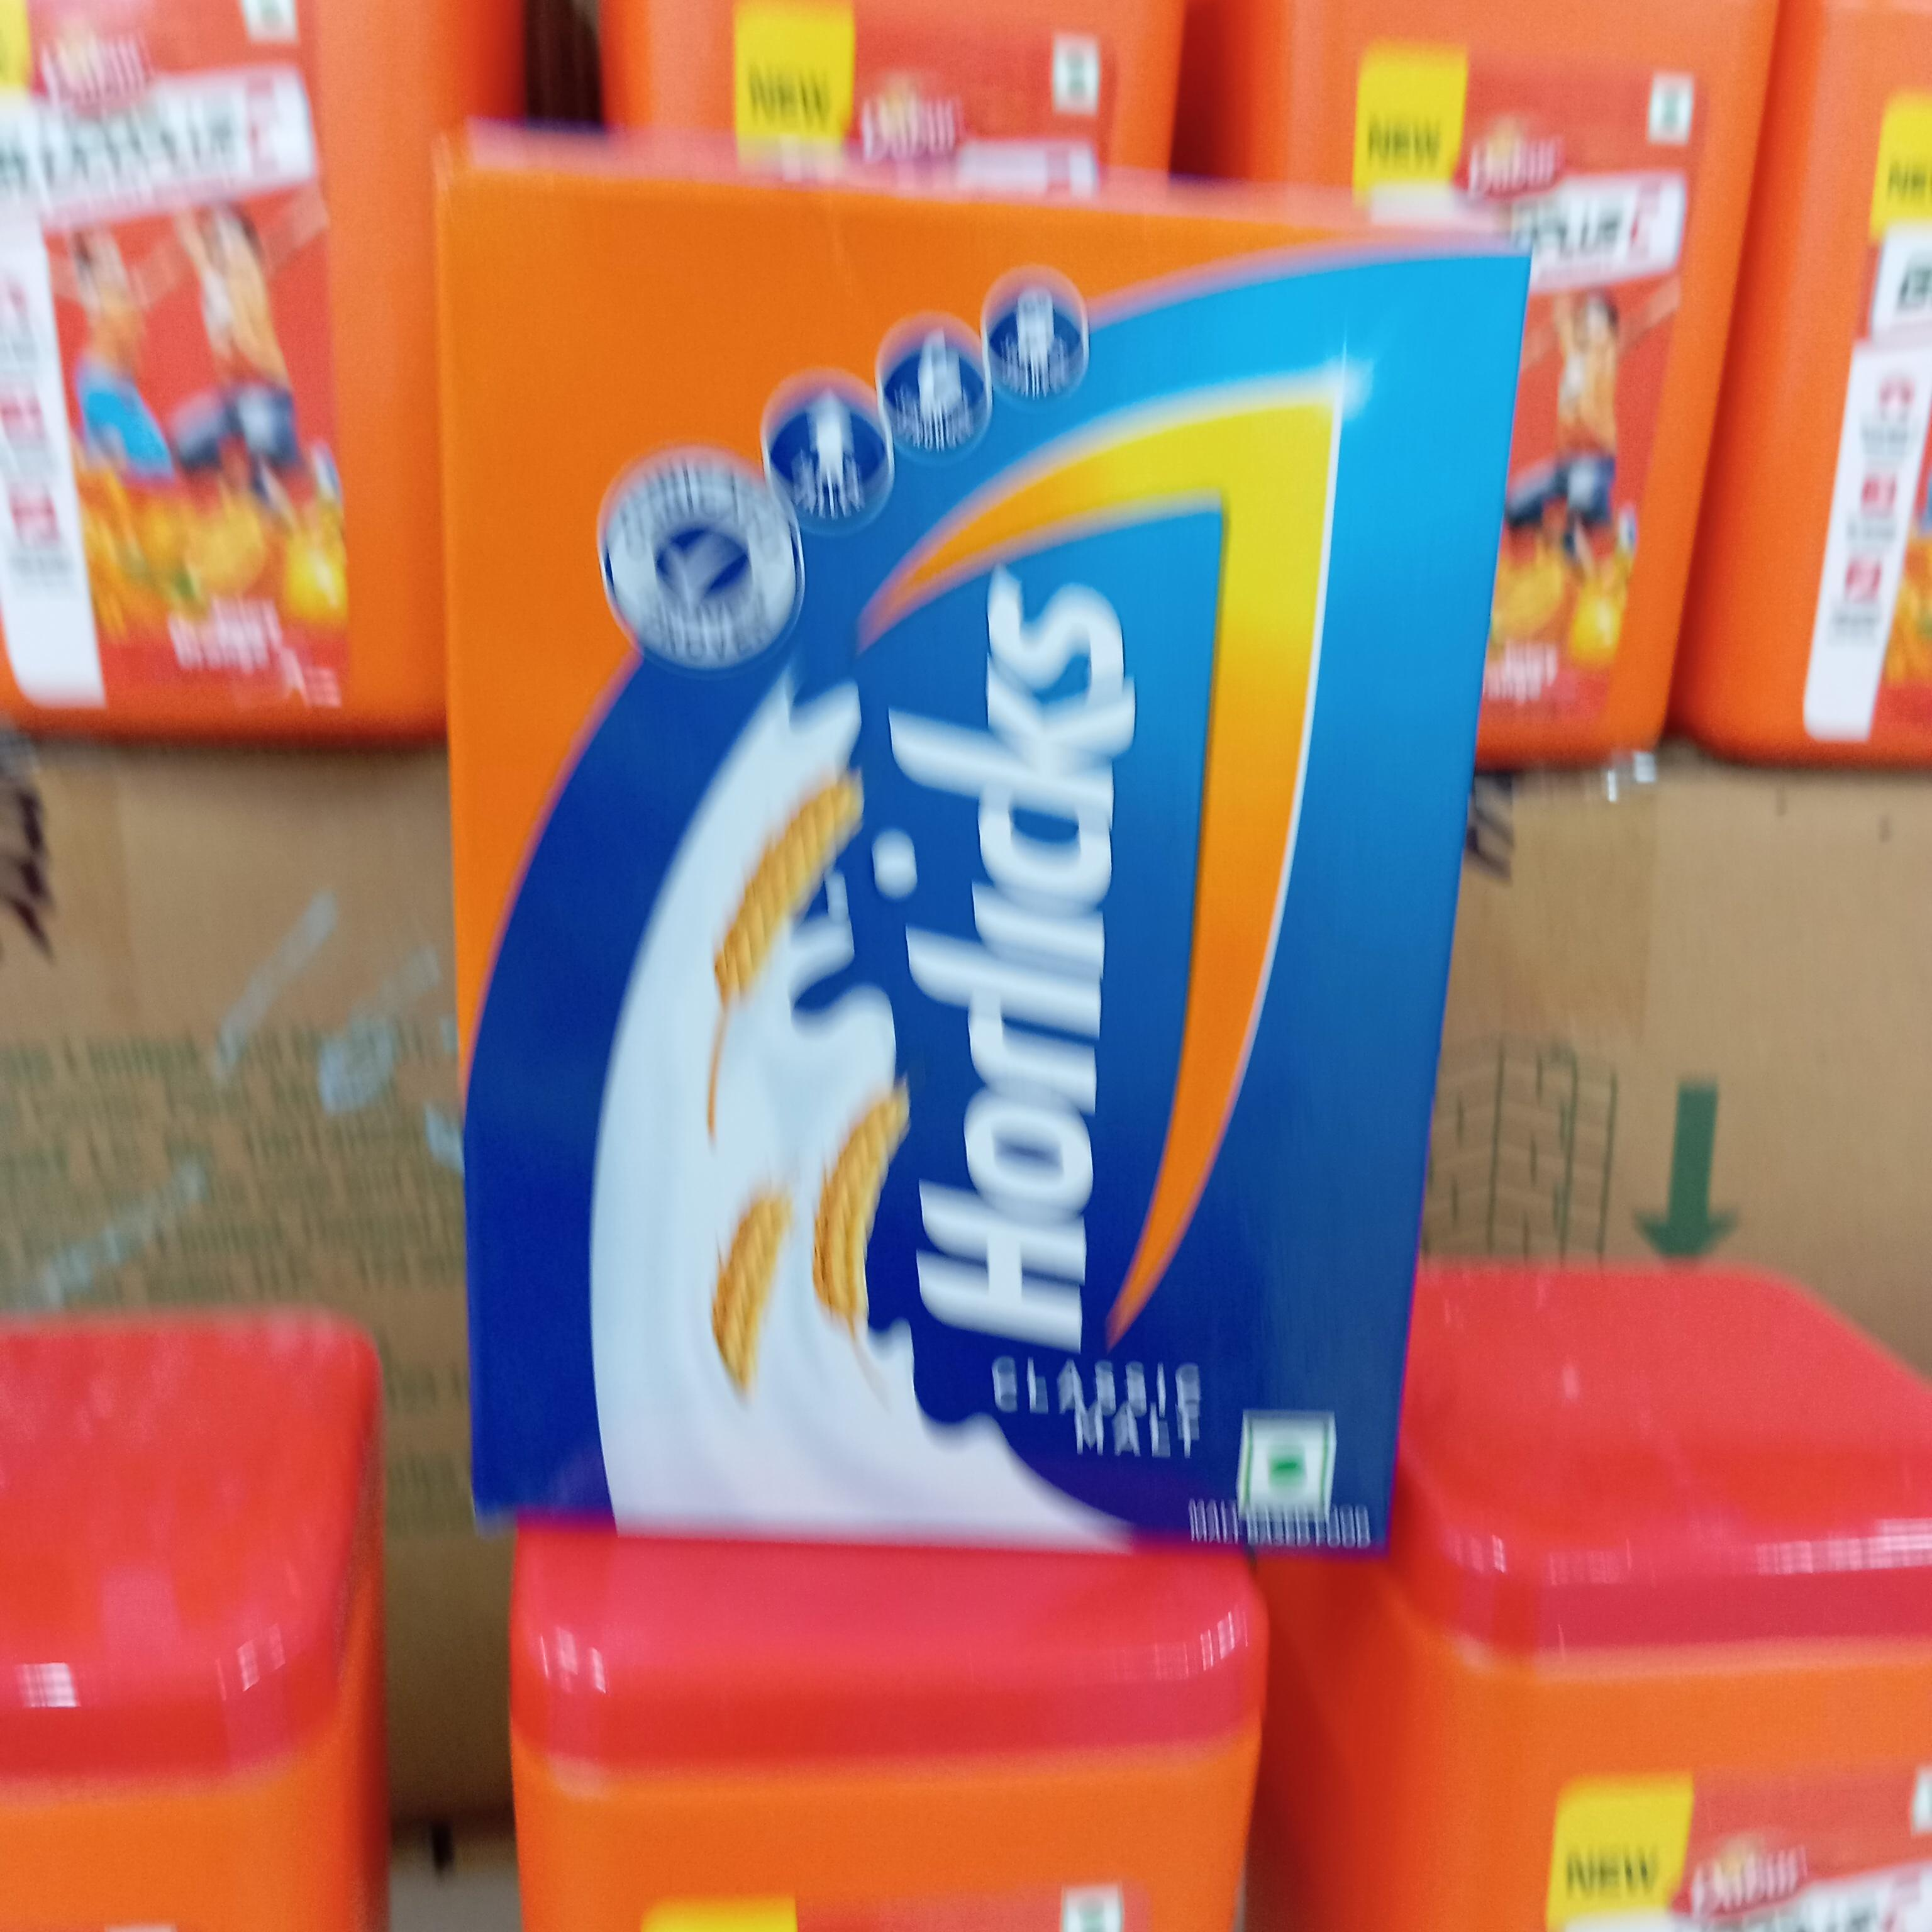HORLICK_CLASSIC_MALT_500_G_PACK: (437, 157, 1500, 1546)
